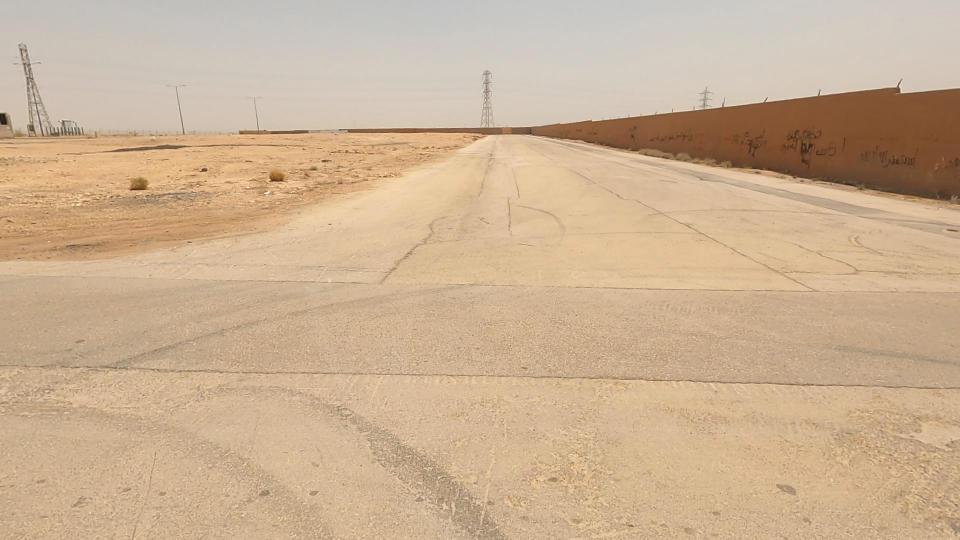GRAFFITI: (745, 95, 879, 195), (841, 128, 959, 202), (697, 104, 792, 184)
